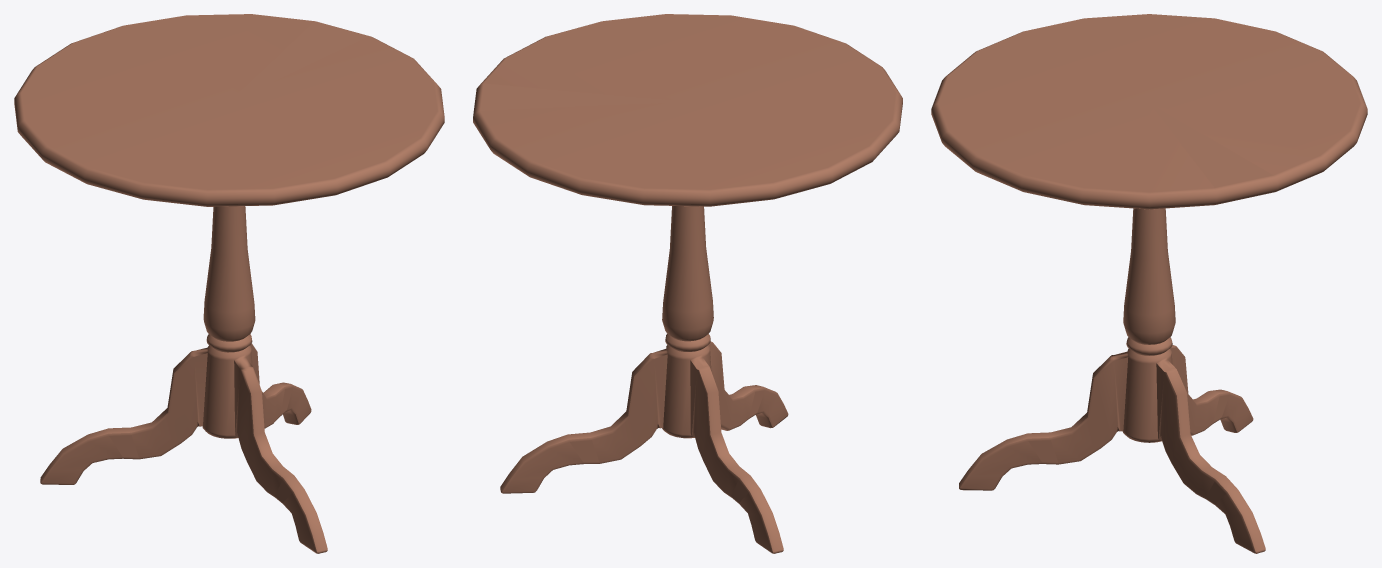
Rendered from gueridon.fbx.
The picture shows the model from 3 angles, left to right: view 1: azimuth 30°, elevation 25°; view 2: azimuth 150°, elevation 25°; view 3: azimuth 270°, elevation 25°; orthographic projection.
Parts seen in each view (by area): view 1: gueridon; view 2: gueridon; view 3: gueridon.
Part boxes in pixels (box(x1,y1,x2,y2)): gueridon: box(14, 14, 444, 553); gueridon: box(473, 14, 902, 553); gueridon: box(931, 14, 1367, 553).
Bounding box in the file's own units: 76.88 × 74.97 × 76.88.
